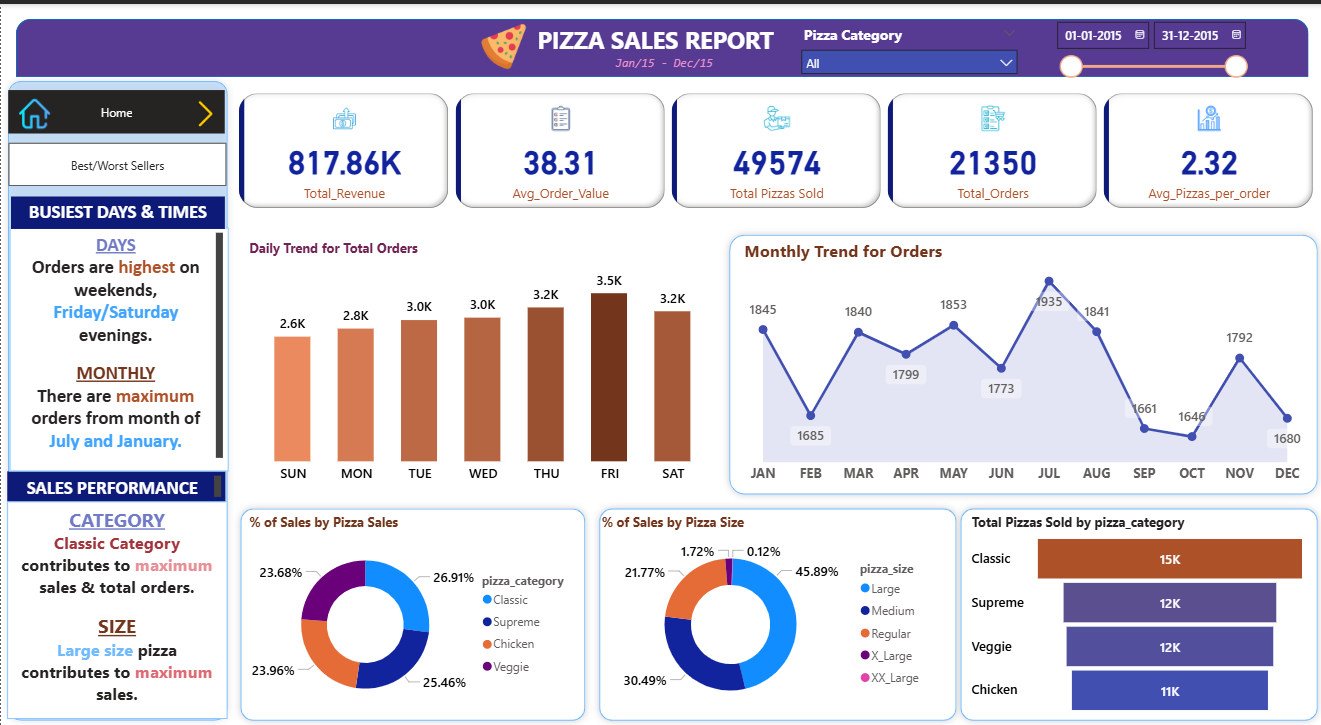

This screenshot's page, from the dashboard's own definition file:
{"tool":"powerbi","page":{"name":"Home","canvas":[1500,820],"ordinal":0},"visuals":[{"type":"shape","box":[0,79.3,264.9,741],"z":0},{"type":"textbox","box":[7.3,529.2,247.2,34.8],"z":1000},{"type":"cardVisual","fields":{"Data":["pizza_sales.Total_Revenue","pizza_sales.Avg_Order_Value","pizza_sales.Total Pizzas Sold","pizza_sales.Total_Orders","pizza_sales.Avg_Pizzas_per_order"]},"box":[264.9,96.3,1229.7,140.3],"z":2000},{"type":"shape","box":[17.7,17.7,1464.9,65.9],"z":3000},{"type":"textbox","box":[580.5,17.7,321.6,51.5],"z":4000},{"type":"textbox","box":[675.8,52.4,151.6,31.2],"z":5000},{"type":"image","box":[531.3,17,76.5,62.3],"z":6000},{"type":"columnChart","title":"Daily Trend for Total Orders","fields":{"Category":["pizza_sales.Order Day"],"Y":["pizza_sales.Total_Orders"]},"box":[276.3,266.3,541.2,286.2],"z":7000},{"type":"shape","box":[817.5,253.6,682.9,310.3],"z":8000},{"type":"areaChart","title":"Monthly Trend for Orders","fields":{"Category":["pizza_sales.Order Month"],"Y":["pizza_sales.Total_Orders"]},"box":[837.3,266.3,647.4,286.2],"z":9000},{"type":"shape","box":[263.5,563.9,406.6,256.4],"z":10000},{"type":"shape","box":[670.1,563.9,420.8,256.4],"z":11000},{"type":"donutChart","title":"% of Sales by Pizza Sales","fields":{"Category":["pizza_sales.pizza_category"],"Y":["pizza_sales.Total_Revenue"]},"box":[276.3,576.6,382.5,233.8],"z":12000},{"type":"donutChart","title":"% of Sales by Pizza Size","fields":{"Y":["pizza_sales.Total_Revenue"],"Category":["pizza_sales.pizza_size"]},"box":[675.8,576.6,382.5,233.8],"z":13000},{"type":"shape","box":[1079.5,563.9,420.8,256.4],"z":14000},{"type":"funnel","title":"Total Pizzas Sold by pizza_category","fields":{"Category":["pizza_sales.pizza_category"],"Y":["pizza_sales.Total Pizzas Sold"]},"box":[1095.1,576.6,389.6,233.8],"z":15000},{"type":"textbox","box":[8.5,266.3,247.9,263.5],"z":16000},{"type":"textbox","box":[8.5,236.6,249.3,36.8],"z":17000},{"type":"textbox","box":[7.1,563.9,249.3,246.5],"z":18000},{"type":"slicer","fields":{"Values":["pizza_sales.pizza_category"]},"box":[896.8,18.4,264.9,60.9],"z":19000},{"type":"slicer","fields":{"Values":["pizza_sales.order_date"]},"box":[1184.4,9.9,236.6,96.3],"z":20000},{"type":"pageNavigator","box":[8.5,97.8,245.1,49.6],"z":20001},{"type":"pageNavigator","box":[8.5,167.2,247.9,49.6],"z":20002},{"type":"image","box":[201.2,104.8,62.3,39.7],"z":20003},{"type":"image","box":[8.5,102,59.5,45.3],"z":20004}]}

Visuals, with their boxes in screenshot pixels (x1, y1, x2, y2), scaled from the page's 1500x820 canvas onto the 1321x725 screenshot:
shape: locate(0, 70, 233, 724)
textbox: locate(6, 468, 224, 499)
cardVisual - pizza_sales.Total_Revenue x pizza_sales.Avg_Order_Value: locate(233, 85, 1316, 209)
shape: locate(16, 16, 1306, 74)
textbox: locate(511, 16, 794, 61)
textbox: locate(595, 46, 729, 74)
image: locate(468, 15, 535, 70)
"Daily Trend for Total Orders" columnChart: locate(243, 235, 720, 488)
shape: locate(720, 224, 1320, 499)
"Monthly Trend for Orders" areaChart: locate(737, 235, 1308, 488)
shape: locate(232, 499, 590, 724)
shape: locate(590, 499, 961, 724)
"% of Sales by Pizza Sales" donutChart: locate(243, 510, 580, 717)
"% of Sales by Pizza Size" donutChart: locate(595, 510, 932, 717)
shape: locate(951, 499, 1320, 724)
"Total Pizzas Sold by pizza_category" funnel: locate(964, 510, 1308, 717)
textbox: locate(7, 235, 226, 468)
textbox: locate(7, 209, 227, 242)
textbox: locate(6, 499, 226, 717)
slicer - pizza_sales.pizza_category: locate(790, 16, 1023, 70)
slicer - pizza_sales.order_date: locate(1043, 9, 1251, 94)
pageNavigator: locate(7, 86, 223, 130)
pageNavigator: locate(7, 148, 226, 192)
image: locate(177, 93, 232, 128)
image: locate(7, 90, 60, 130)
